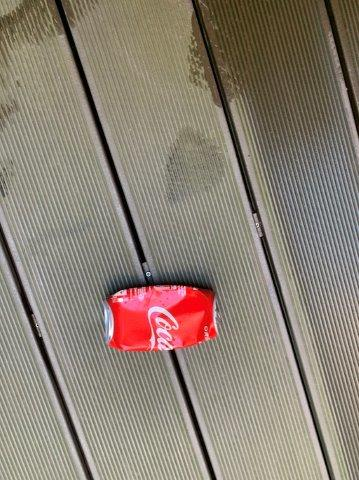kaleng: (106, 286, 217, 351)
